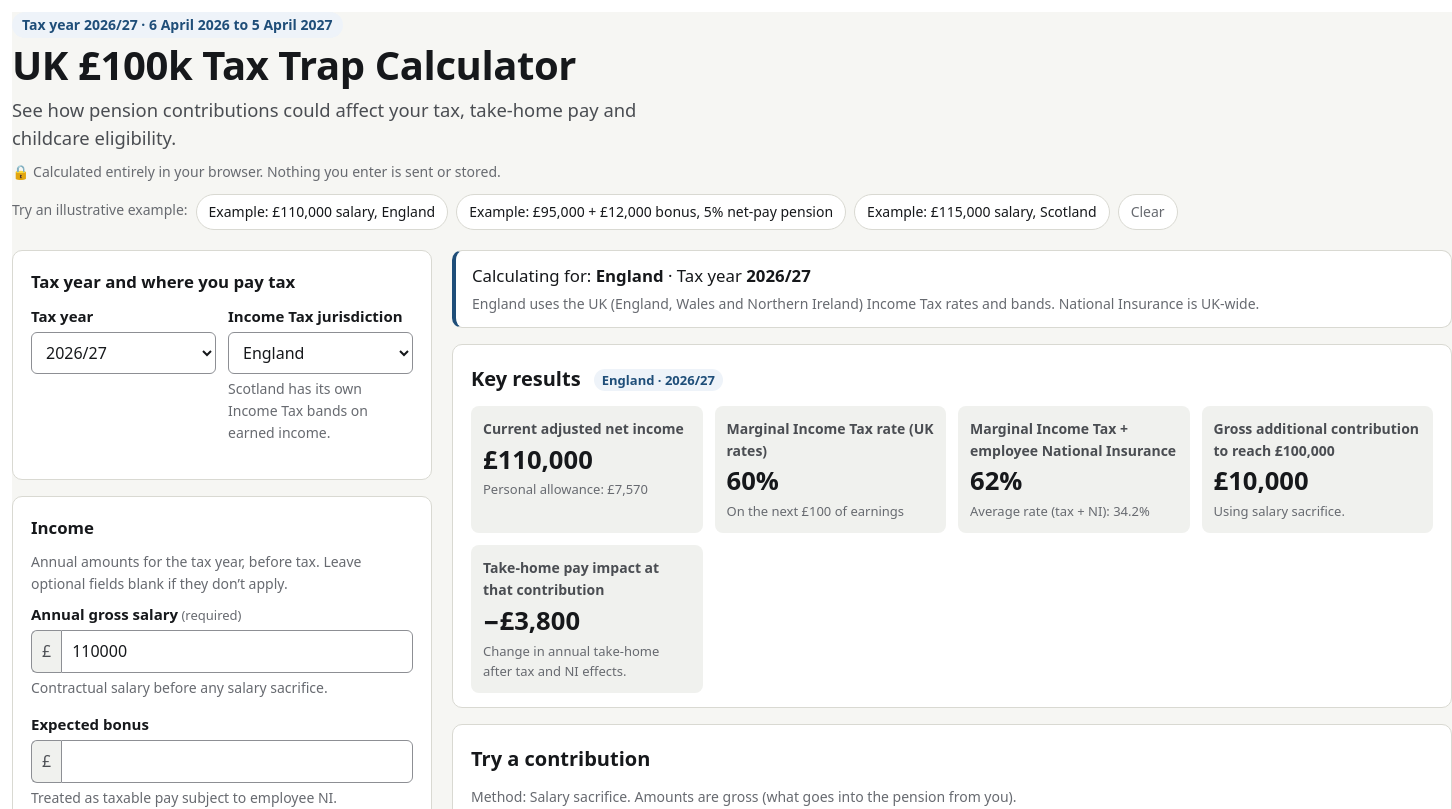
it: calculator UI › states which jurisdiction and tax year it is calculating for, and updates on change
Expected: the element with test id "basis-banner" shows "Calculating for: England · Tax year 2026/27", [452,250,1451,328]
Expected: the element with test id "basis-banner" shows "UK (England, Wales and Northern Ireland) Income Tax rates", [472,294,1259,313]
Select "Scotland" in the dropdown labelled "Income Tax jurisdiction" at (320, 353), box [228,332,413,374]
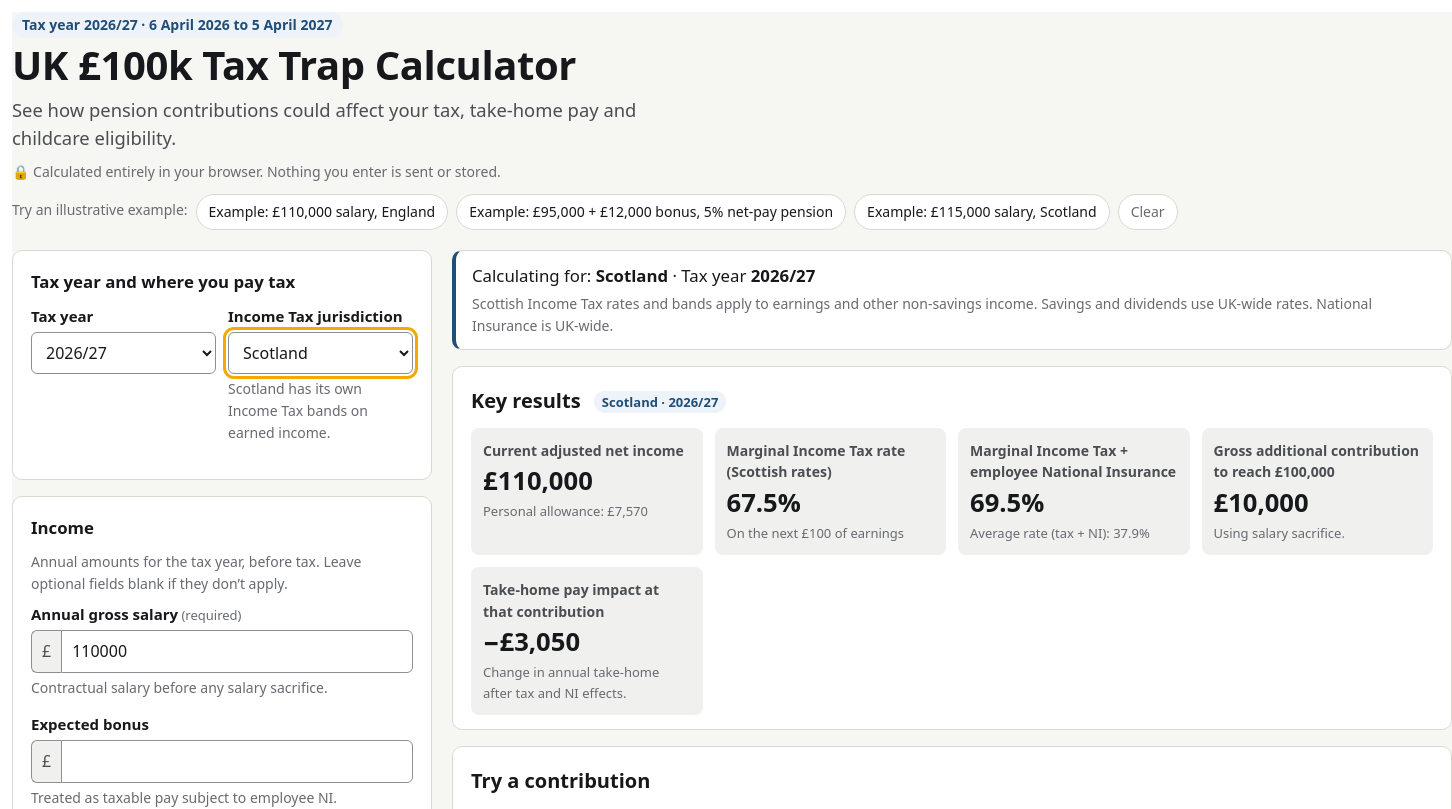
Expected: the element with test id "basis-banner" shows "Calculating for: Scotland", [452,250,1451,350]
Expected: the element with test id "basis-banner" shows "Scottish Income Tax rates and bands apply to earnings", [472,294,1372,335]
Select "2025/26" in the dropdown labelled "Tax year" at (124, 353), box [31,332,216,374]
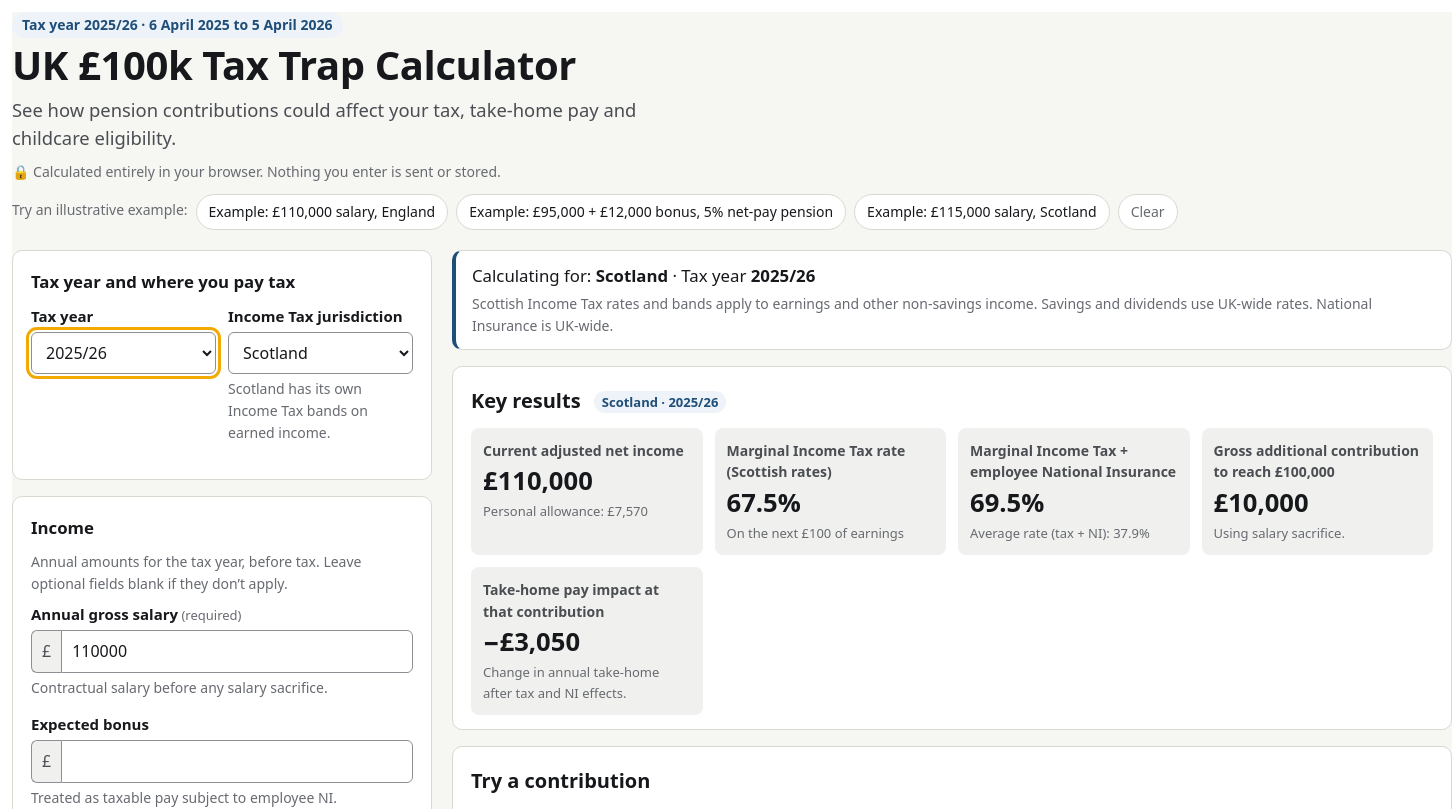
Expected: the element with test id "basis-banner" shows "Tax year 2025/26", [452,250,1451,350]
